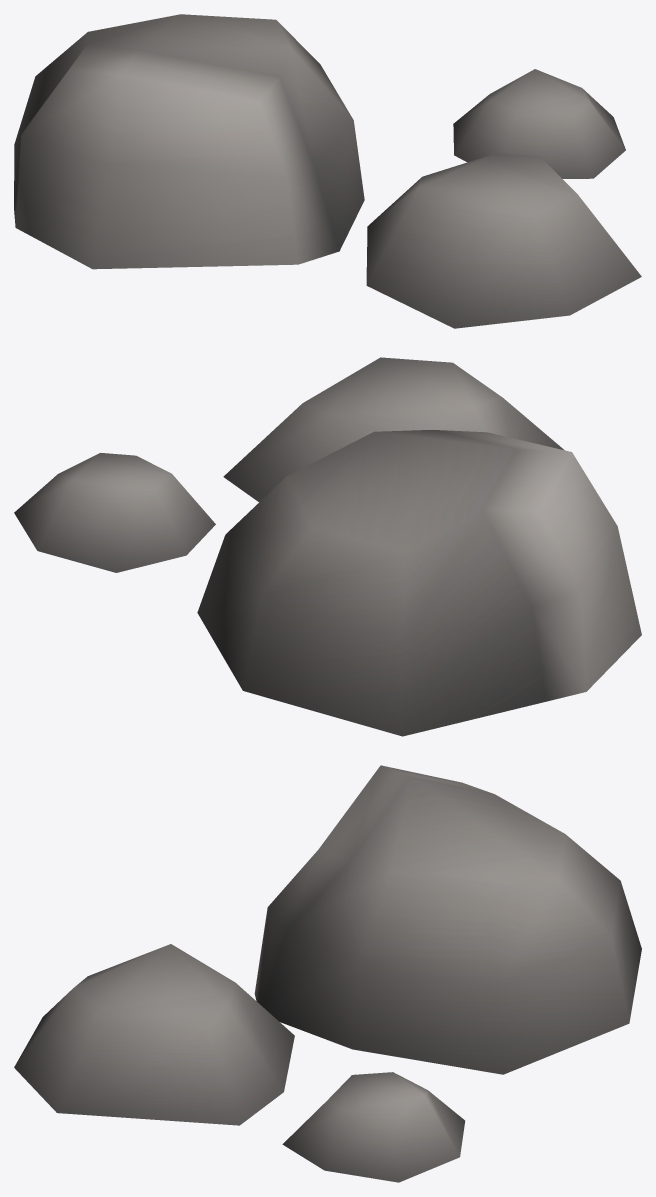
File: m_Rocks02_A.fbx
The picture shows the model from 3 angles, top to bottom: view 1: azimuth 30°, elevation 25°; view 2: azimuth 150°, elevation 25°; view 3: azimuth 270°, elevation 25°; orthographic projection. The views are drawn at different scales.
Parts seen in each view (by area): view 1: m_Rocks02_A; view 2: m_Rocks02_A; view 3: m_Rocks02_A.
Boxes of the visible parts, <box> form: m_Rocks02_A: <box>14,14,641,328</box>; m_Rocks02_A: <box>14,357,641,736</box>; m_Rocks02_A: <box>14,765,641,1182</box>.
Size of the model in its own units: 188 by 56.99 by 182.
